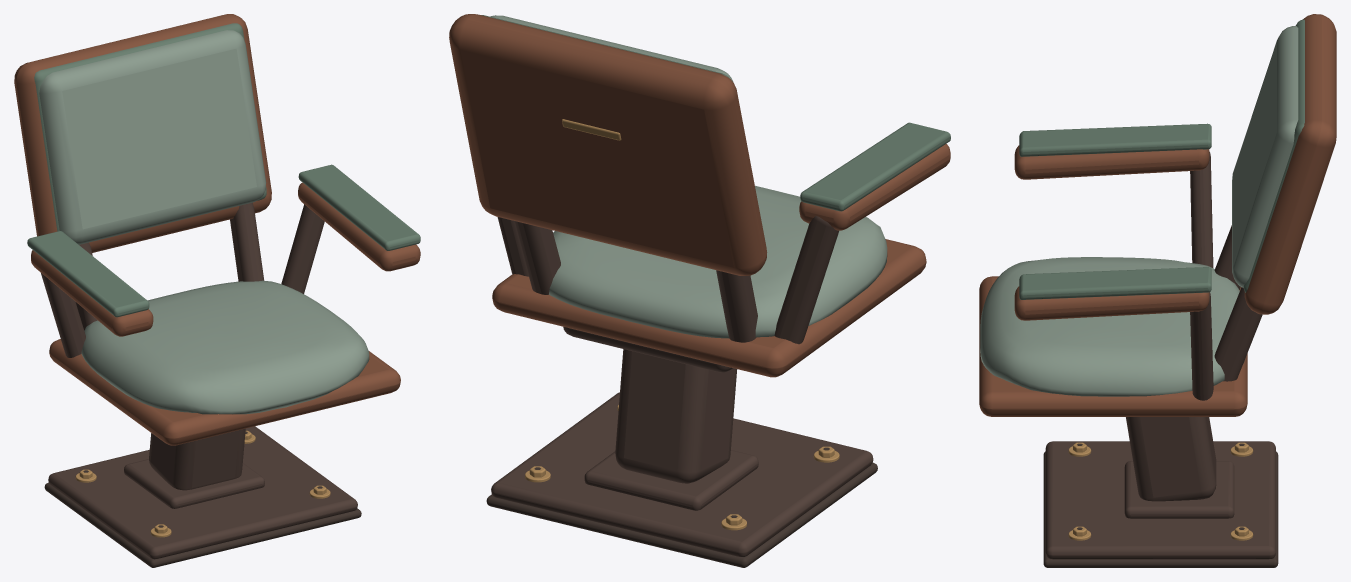
Rendered from fixed-desk-chair.glb.
3 views of the same model, side by side, from view 1: azimuth 30°, elevation 25°; view 2: azimuth 150°, elevation 25°; view 3: azimuth 270°, elevation 25° (orthographic). The views are drawn at different scales.
Parts seen in each view (by area): view 1: Sage upholstery, Powder-coated bronze, Warm walnut, Upholstery welt, Bolt socket, Satin brass; view 2: Warm walnut, Powder-coated bronze, Sage upholstery, Upholstery welt, Bolt socket, Satin brass; view 3: Powder-coated bronze, Sage upholstery, Warm walnut, Upholstery welt, Bolt socket, Satin brass.
Part boxes in pixels (x1,y1,x2,y2): Sage upholstery: (39,30,369,414); Powder-coated bronze: (41,202,357,559); Warm walnut: (14,14,420,445); Upholstery welt: (27,23,420,317); Bolt socket: (44,431,361,567); Satin brass: (75,430,330,537); Warm walnut: (449,14,950,377); Powder-coated bronze: (491,216,873,556); Sage upholstery: (490,15,887,338); Upholstery welt: (481,15,950,211); Bolt socket: (486,447,877,567); Satin brass: (525,119,839,530); Powder-coated bronze: (1045,151,1275,559); Sage upholstery: (980,26,1298,396); Warm walnut: (979,14,1336,416); Upholstery welt: (1019,19,1304,299); Bolt socket: (1043,443,1278,567); Satin brass: (1068,442,1253,540).
Size of the model in its own units: 0.88 by 1.13 by 0.8208.
